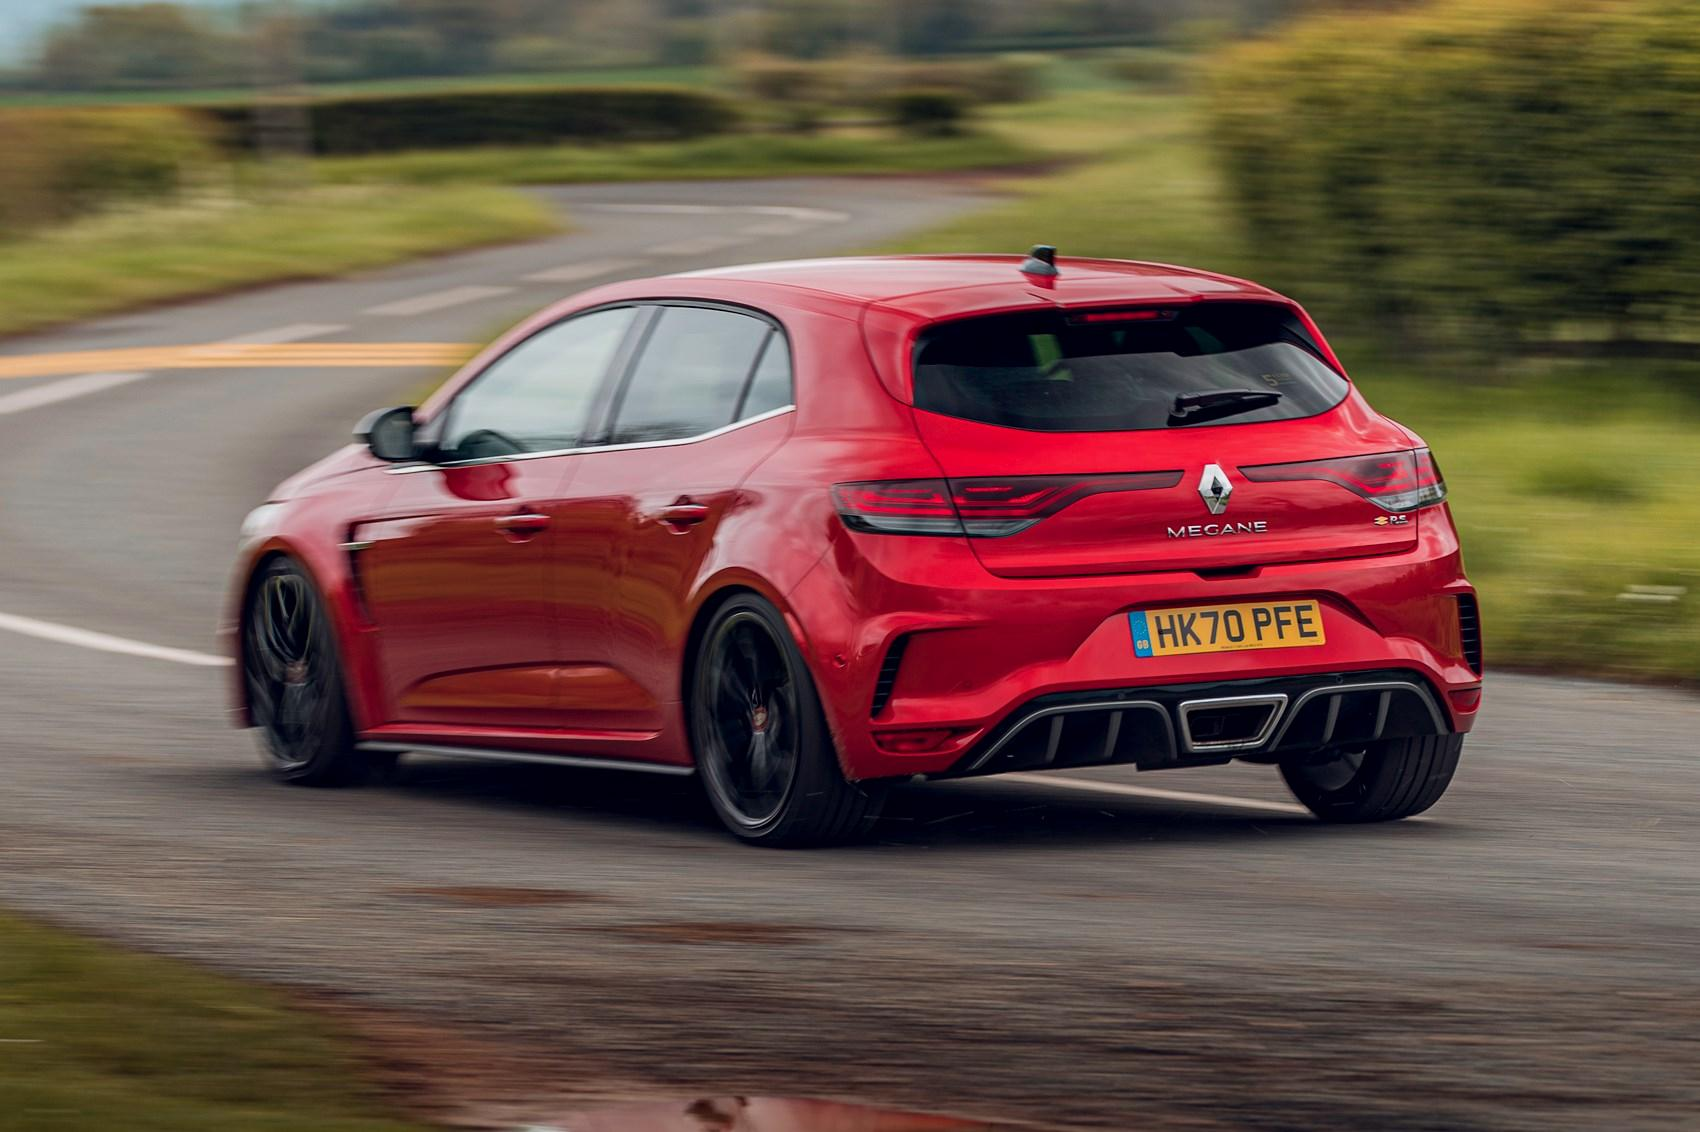Renault: (1176, 449, 1249, 519)
